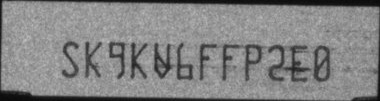0: (313, 44, 333, 82)
2: (267, 44, 286, 81)
6: (177, 41, 194, 80)
9: (108, 40, 125, 79)
E: (290, 44, 309, 81)
F: (199, 43, 217, 80), (222, 44, 239, 81)
K: (84, 39, 102, 78), (130, 41, 148, 80)
P: (244, 44, 263, 81)
S: (62, 41, 79, 78)
V: (153, 42, 172, 79)
